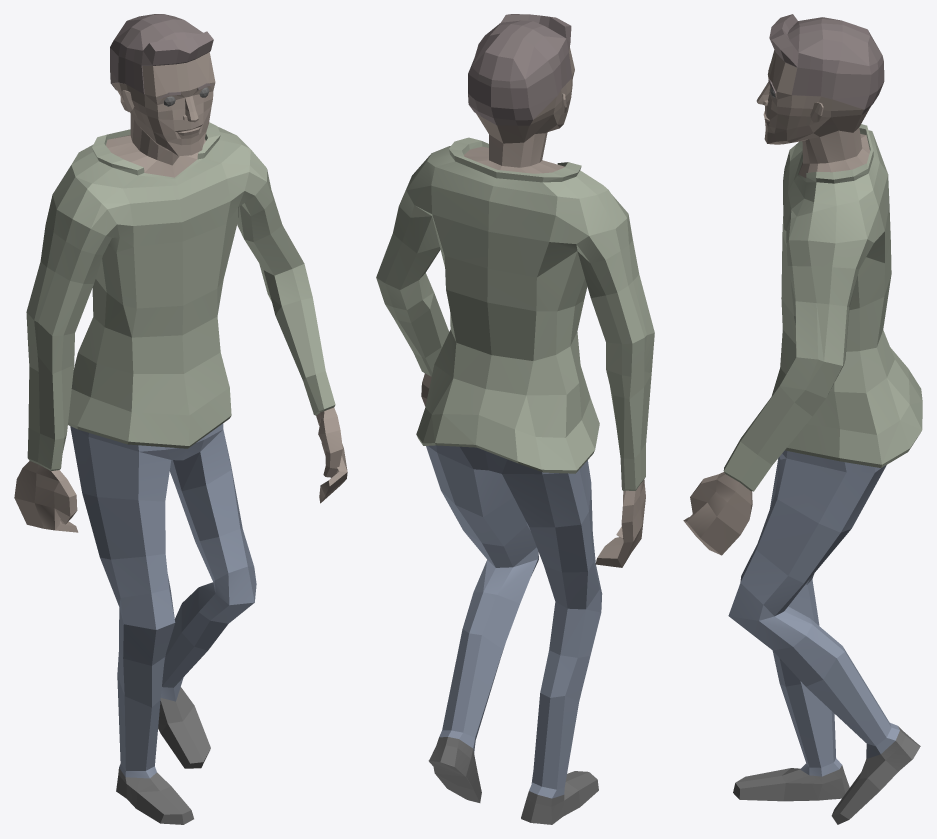
The model's file is walk-0.glb.
3 views of the same model, side by side, from view 1: azimuth 30°, elevation 25°; view 2: azimuth 150°, elevation 25°; view 3: azimuth 270°, elevation 25° (orthographic). The views are drawn at different scales.
Visible parts, largest first — view 1: BaseHuman_baked; view 2: BaseHuman_baked; view 3: BaseHuman_baked.
Part boxes in pixels (<box>): BaseHuman_baked: <box>14,14,347,824</box>; BaseHuman_baked: <box>376,14,654,824</box>; BaseHuman_baked: <box>683,14,922,824</box>.
Bounding box in the file's own units: 1.69 × 4.72 × 1.31.
